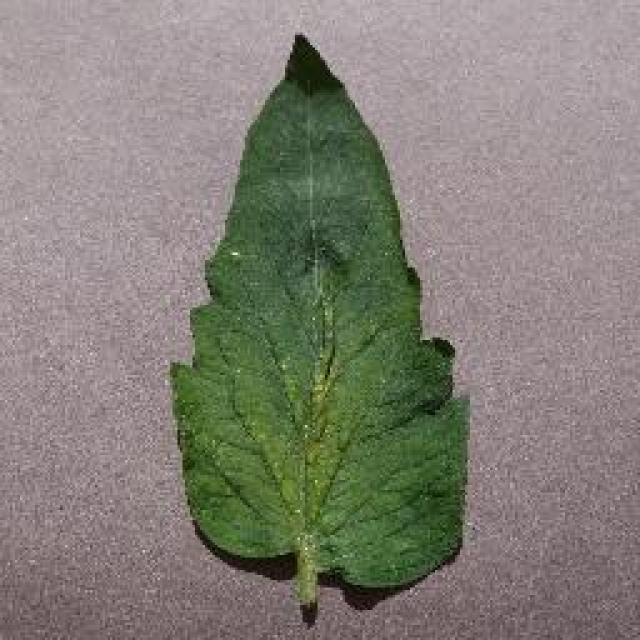Tomato spider mites leaf: (168, 30, 468, 592)
